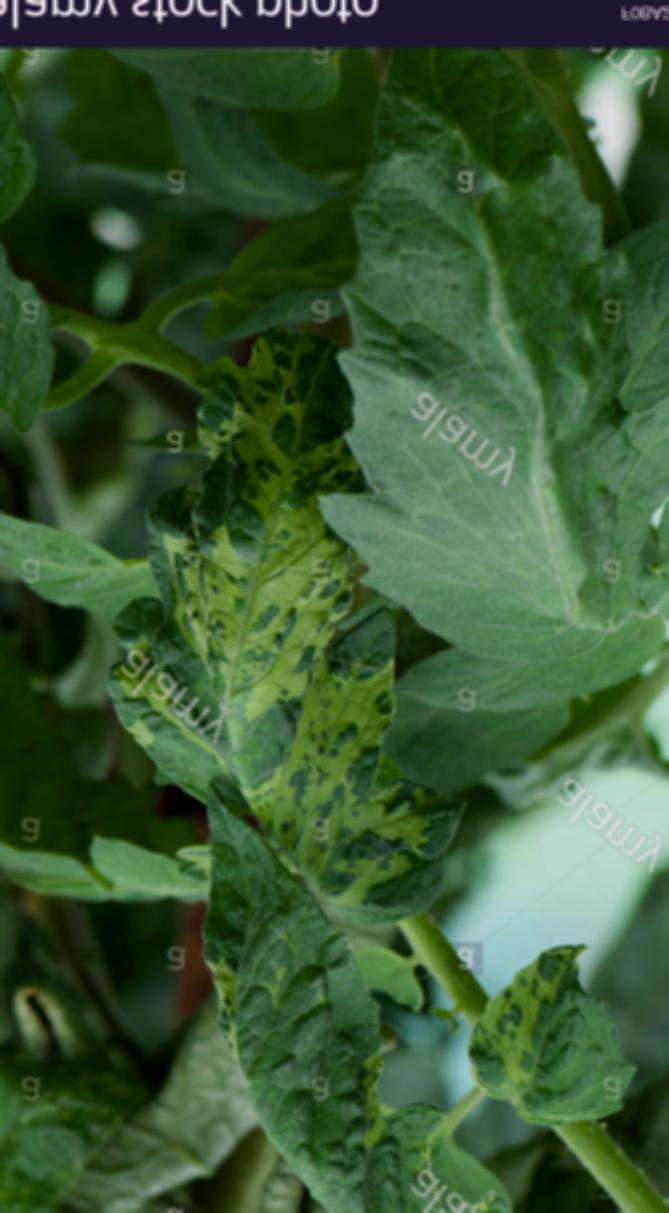Tomato leaf mosaic virus: (112, 322, 431, 978), (315, 102, 669, 690), (166, 806, 517, 1213), (436, 927, 628, 1117)
